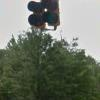Traffic light: (25, 0, 67, 40)
